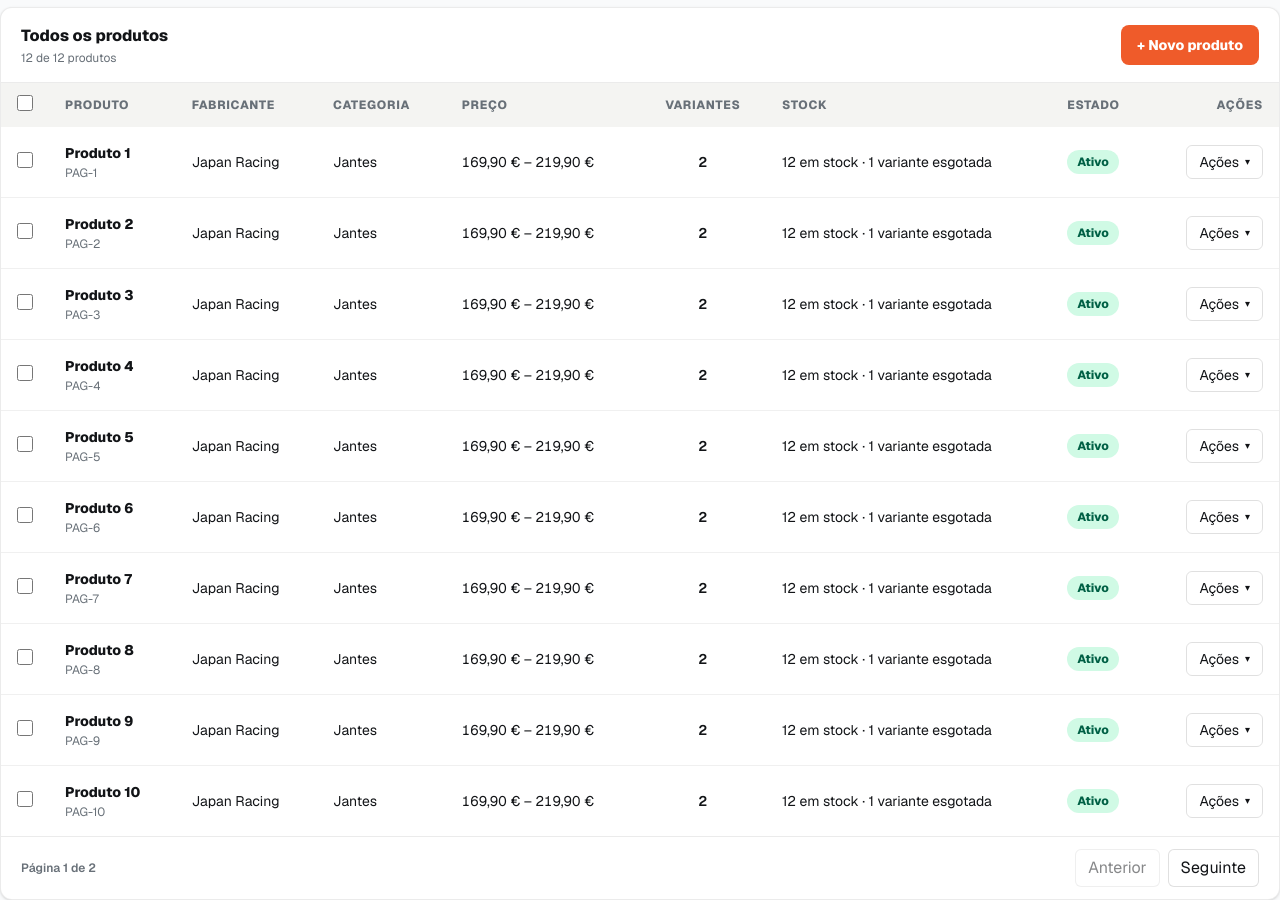
Test: ProductsClient › pagina a lista e volta à primeira página ao filtrar
The image size is (1280, 900).
(page scrolled)
expect the heading "Todos os produtos" is shown: met, box [21, 24, 168, 48]
expect the link "Produto 1" is shown: met, box [65, 144, 131, 162]
Step 1. Click the button named "Página seguinte" → (1213, 868), box [1168, 849, 1259, 887]
(page scrolled)
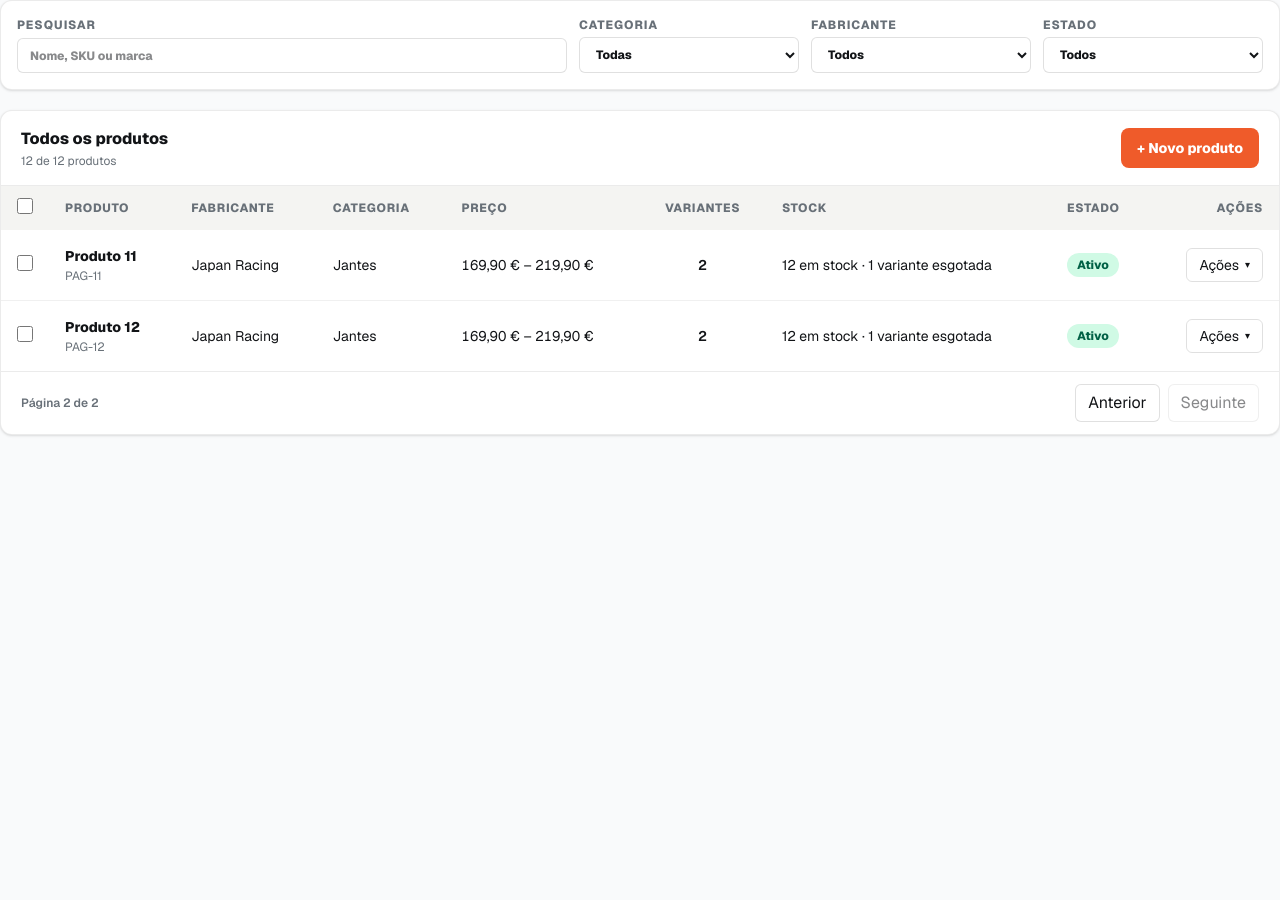
expect the text "Página 2 de 2" is shown: met, box [21, 395, 99, 411]
expect the link "Produto 11" is shown: met, box [65, 247, 137, 265]
expect the link "Produto 12" is shown: met, box [65, 318, 140, 336]
Step 2. Type "Produto 11" into the search field labelled "Pesquisar" → (292, 56), box [17, 38, 567, 73]
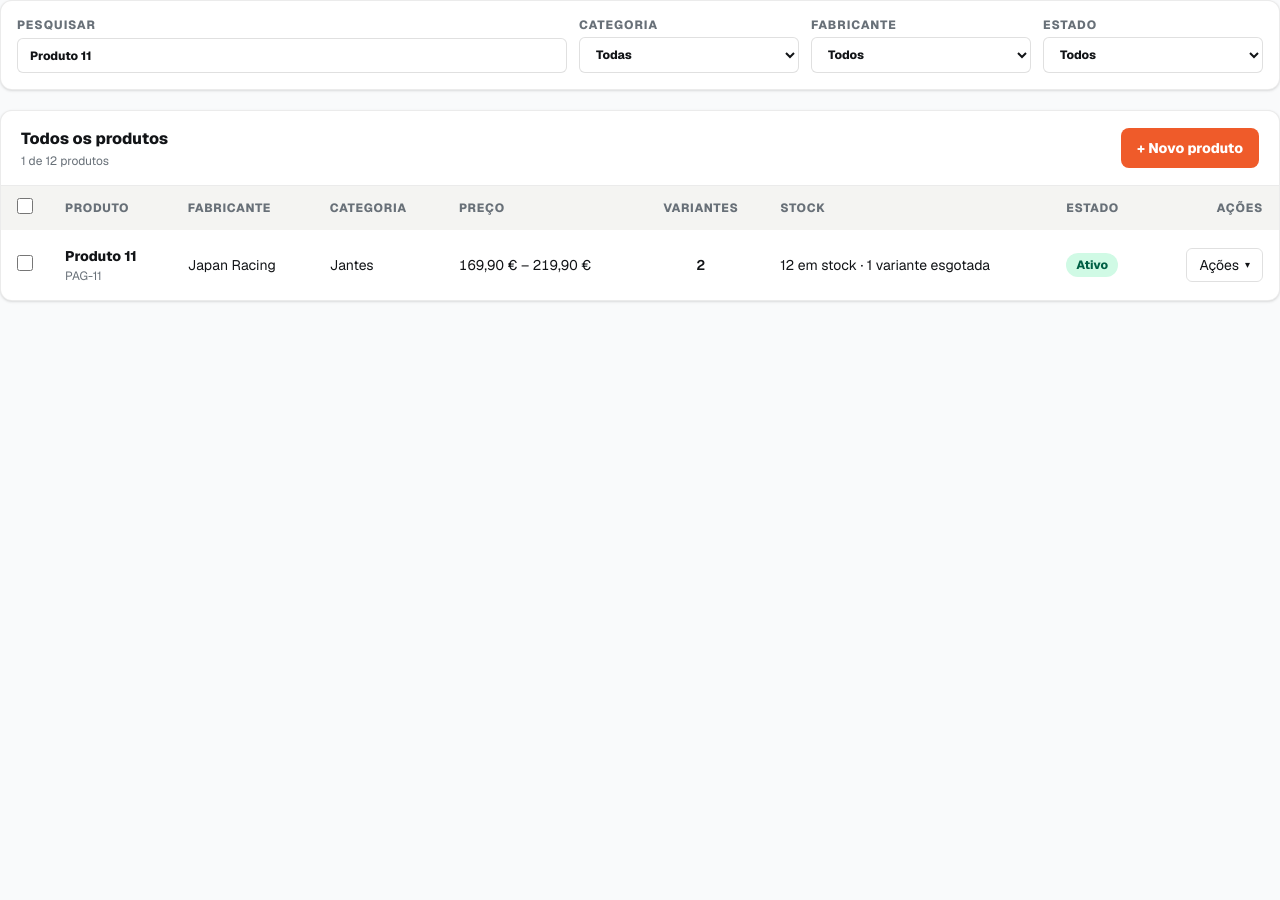
expect the link "Produto 11" is shown: met, box [65, 247, 137, 265]
expect the text "1 de 12 produtos" is shown: met, box [21, 153, 109, 169]
expect the text "Página 2 de 2" is gone: met
